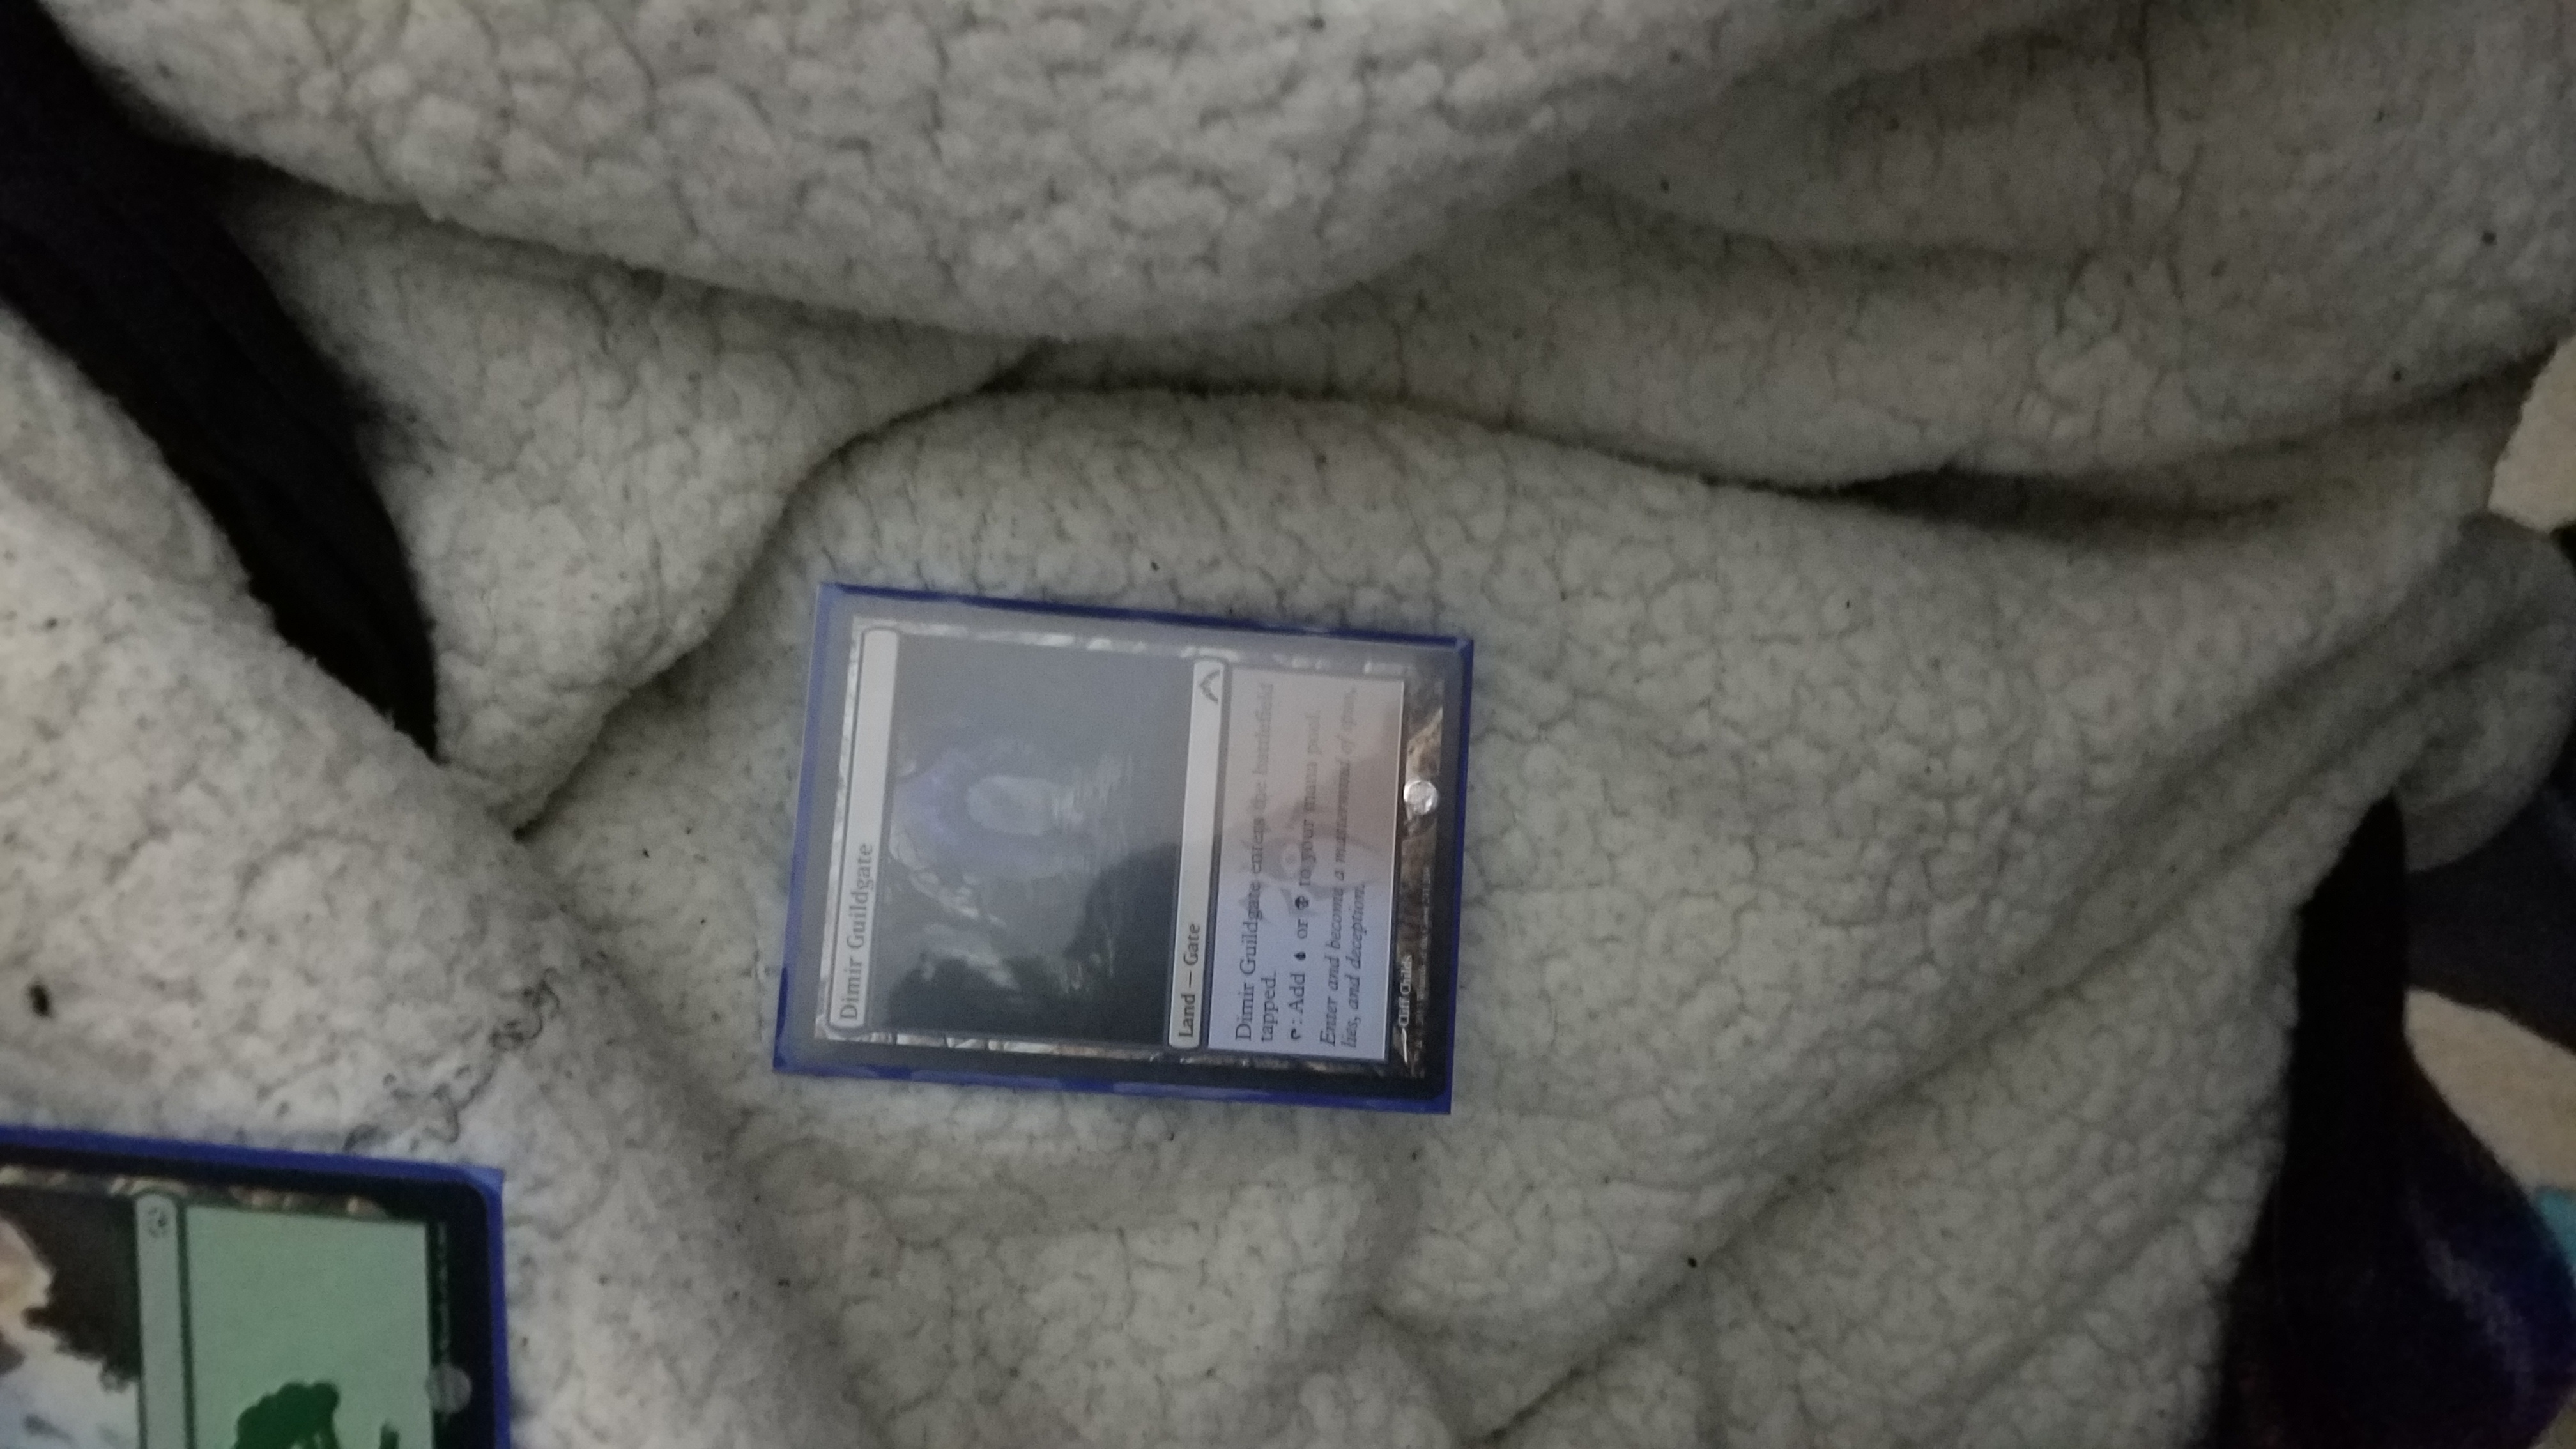Card: (787, 591, 1479, 1111)
